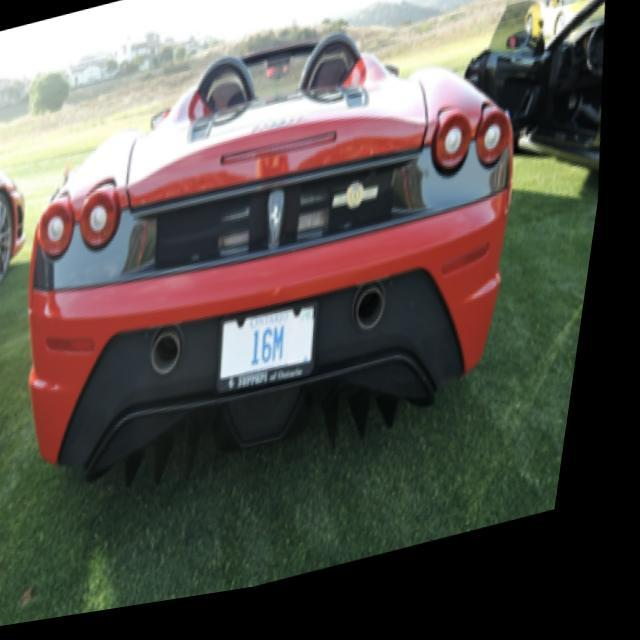license_plate: (218, 304, 330, 412)
